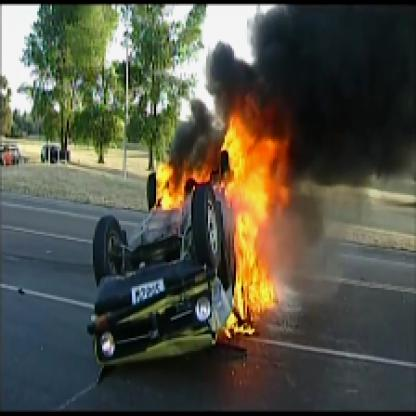Fire: (150, 89, 296, 342)
